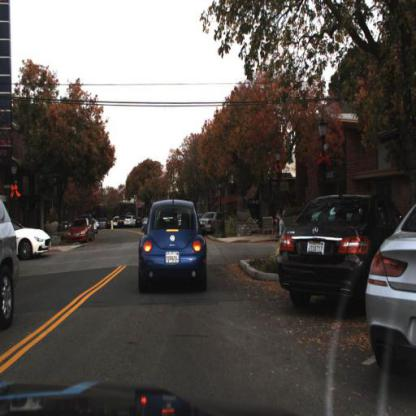car: (279, 197, 401, 313), (366, 207, 416, 386), (138, 196, 210, 295), (1, 197, 21, 337), (6, 216, 53, 260), (67, 216, 97, 246), (200, 206, 230, 236), (124, 215, 136, 229)
pedestrian: (275, 210, 289, 267)
